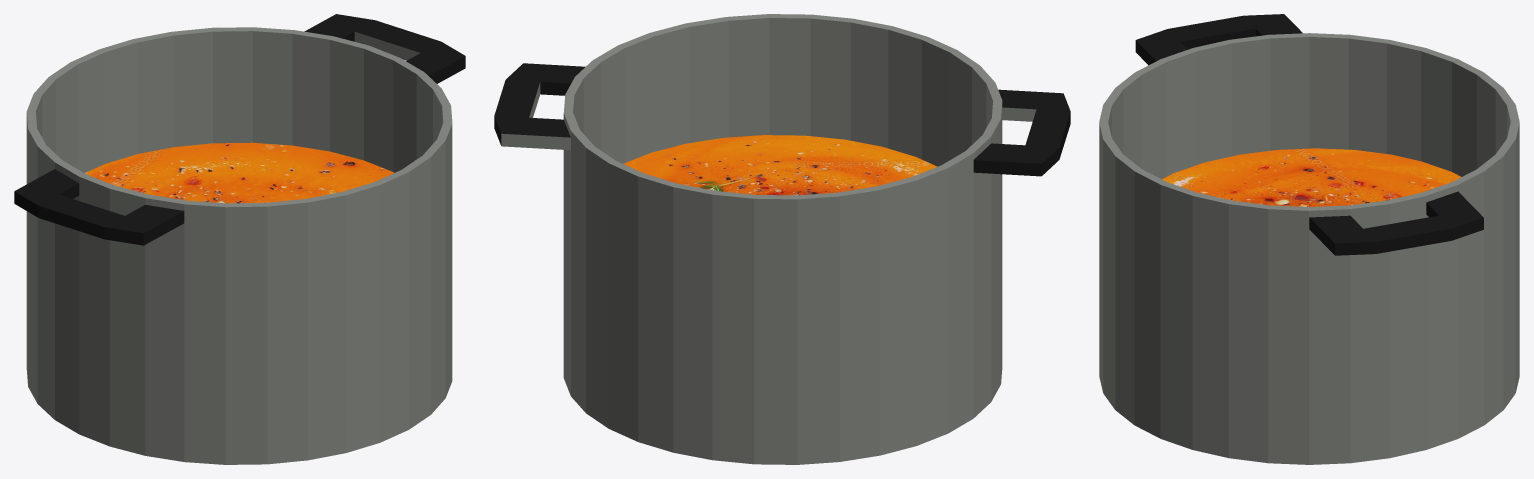
Rendered from olla_2.obj.
The picture shows the model from 3 angles, left to right: view 1: azimuth 30°, elevation 25°; view 2: azimuth 150°, elevation 25°; view 3: azimuth 270°, elevation 25°; orthographic projection. The views are drawn at different scales.
Parts seen in each view (by area): view 1: Cilindro.009_Cilindro.009_Material.004, Cilindro.009_Cilindro.009_Material.096; view 2: Cilindro.009_Cilindro.009_Material.004, Cilindro.009_Cilindro.009_Material.096; view 3: Cilindro.009_Cilindro.009_Material.004, Cilindro.009_Cilindro.009_Material.096.
Part boxes in pixels (x1,y1,x2,y2): Cilindro.009_Cilindro.009_Material.004: (14, 14, 465, 464); Cilindro.009_Cilindro.009_Material.096: (85, 142, 394, 203); Cilindro.009_Cilindro.009_Material.004: (494, 14, 1070, 464); Cilindro.009_Cilindro.009_Material.096: (624, 135, 937, 195); Cilindro.009_Cilindro.009_Material.004: (1099, 14, 1519, 464); Cilindro.009_Cilindro.009_Material.096: (1162, 148, 1461, 206).
Bounding box in the file's own units: 0.5813 × 0.3 × 0.45.
